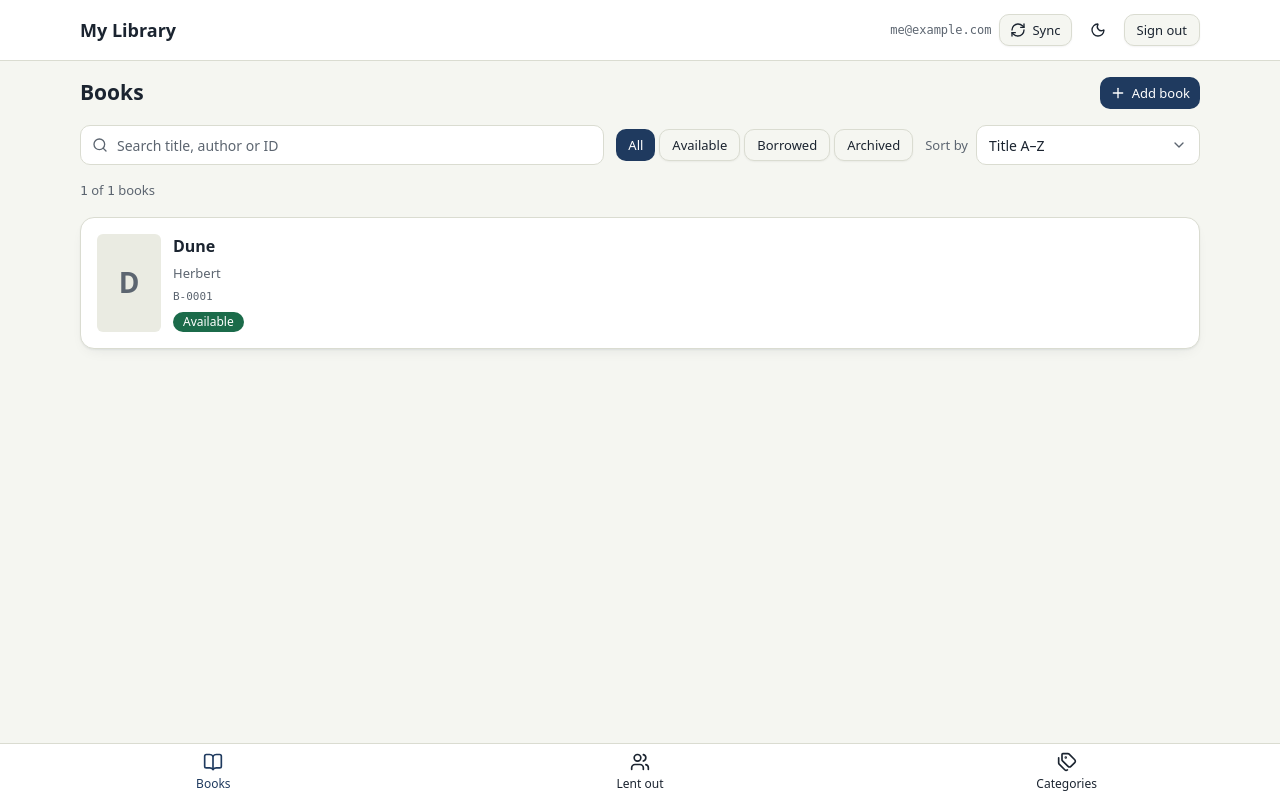
Add book form › opens from the list with a read-only Book ID placeholder
Step 1. Click the link "Add book" → [1150, 93], box left=1100, top=77, right=1200, bottom=109
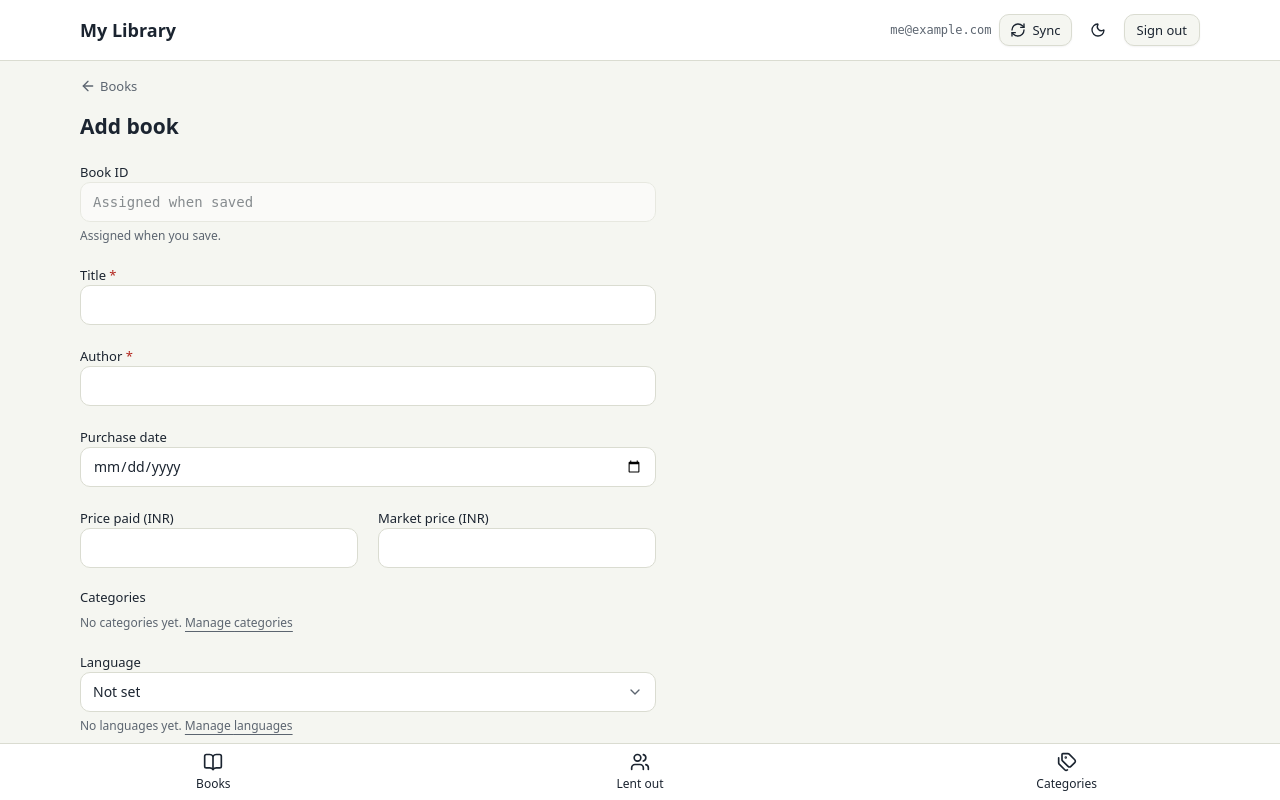
Check: the heading "Add book" is shown, box left=80, top=112, right=179, bottom=140
Check: the field labelled "Book ID" is disabled, box left=80, top=182, right=656, bottom=222
Check: the field labelled "Book ID" holds "Assigned when saved", box left=80, top=182, right=656, bottom=222
